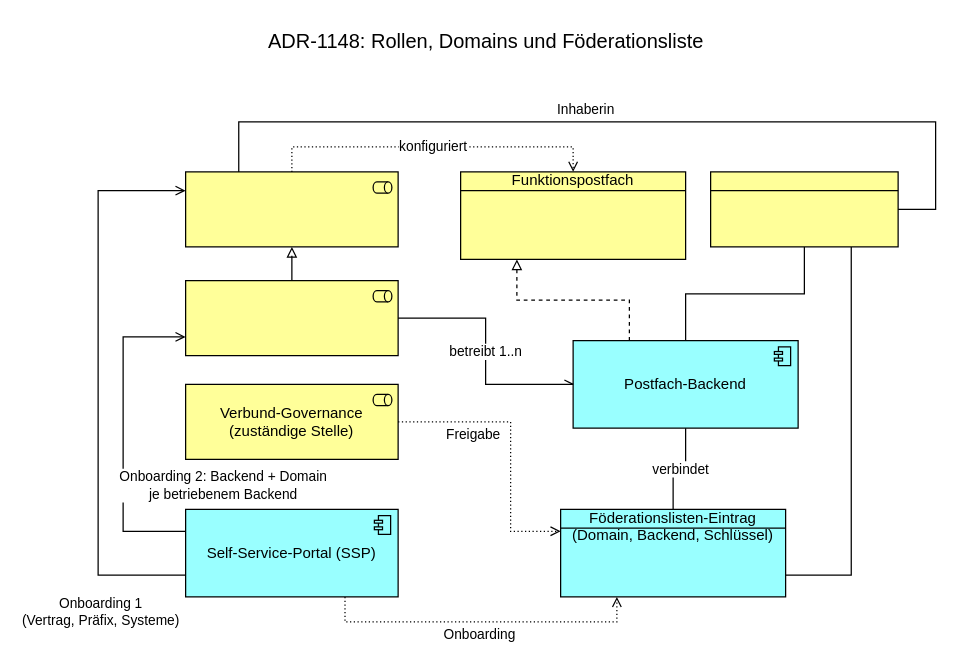
Some shapes in this 959 by 664 pixel diagram are drawn without their labels. Each missing label, with the box of its shape:
Adress-Domain: (709, 171, 898, 247)
Betreiber: (184, 279, 398, 356)
Organisation: (184, 171, 398, 247)
